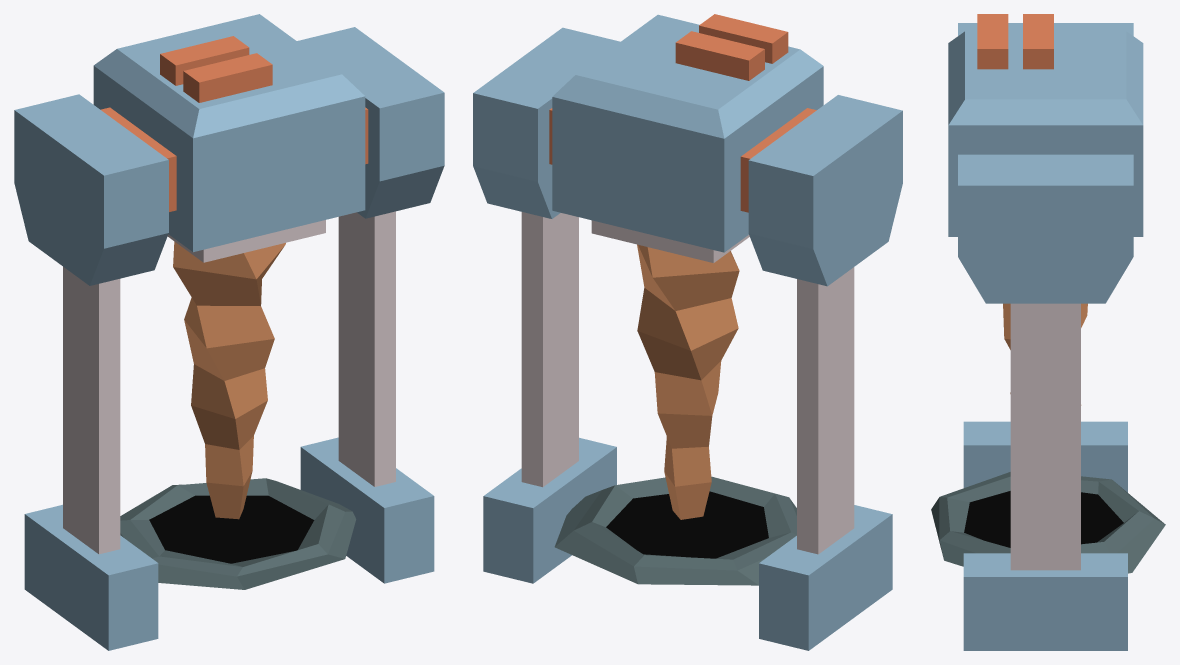
File: Drill.glb
3 views of the same model, side by side, from view 1: azimuth 30°, elevation 25°; view 2: azimuth 150°, elevation 25°; view 3: azimuth 270°, elevation 25° (orthographic). The views are drawn at different scales.
Parts seen in each view (by area): view 1: Piece - Drill; view 2: Piece - Drill; view 3: Piece - Drill.
Boxes of the visible parts, x1,y1,x2,y2 form: Piece - Drill: [14, 14, 444, 650]; Piece - Drill: [473, 14, 902, 650]; Piece - Drill: [931, 14, 1165, 650].
Size of the model in its own units: 0.6034 by 0.9134 by 0.368.
